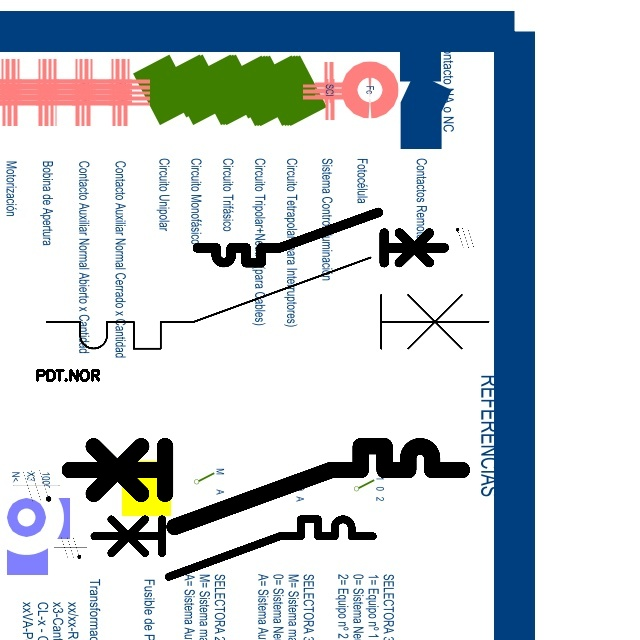interruptor_termomagnetico: (35, 246, 500, 360), (59, 436, 471, 537), (87, 512, 380, 583), (191, 206, 451, 269)
